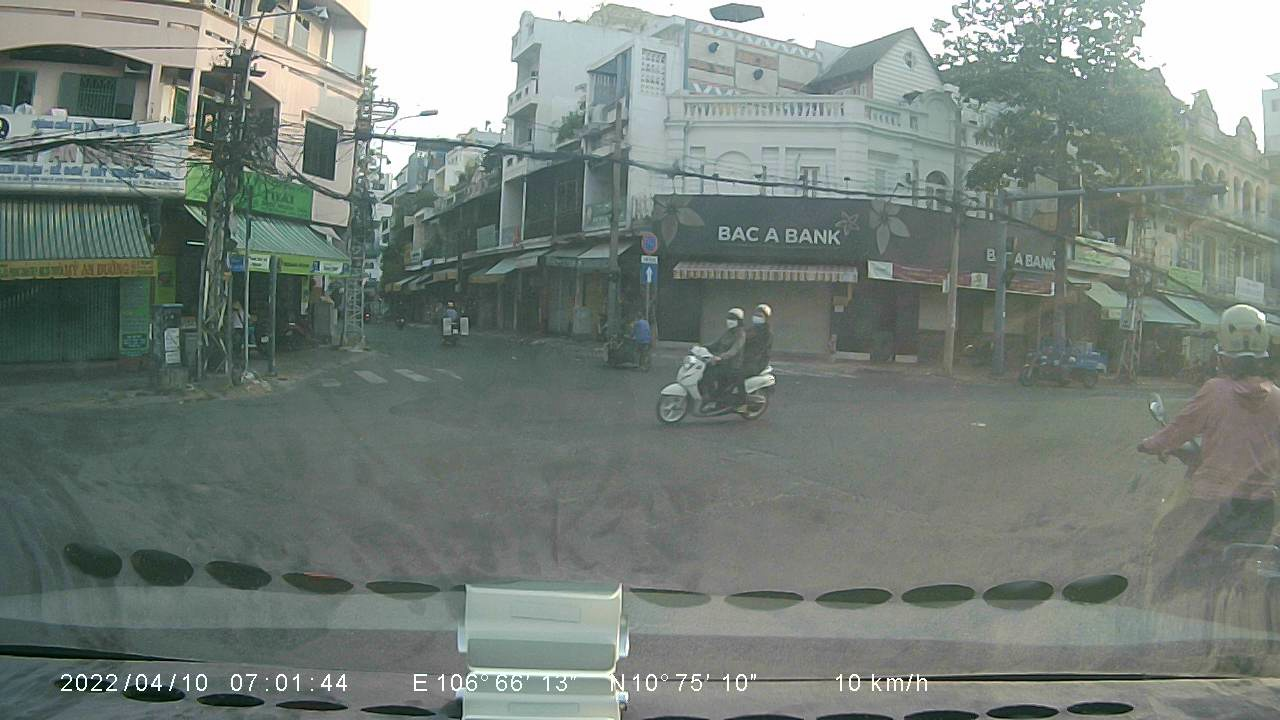Bien khac: (638, 260, 661, 286)
